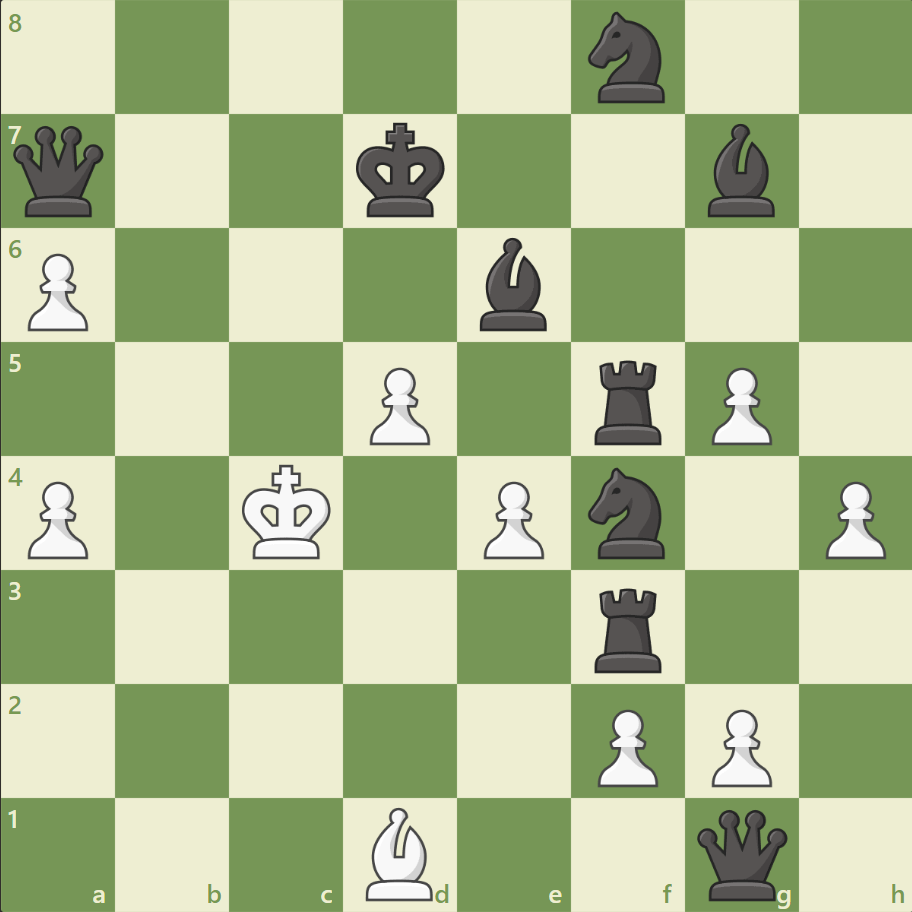B: (358, 801, 442, 904)
K: (238, 458, 338, 566)
P: (20, 246, 95, 337), (701, 359, 776, 450), (20, 473, 95, 564), (474, 473, 549, 564), (701, 700, 776, 791), (361, 359, 435, 450), (815, 473, 889, 564), (588, 700, 662, 791)
b: (471, 233, 555, 336), (698, 120, 782, 222)
k: (351, 117, 451, 225)
n: (579, 7, 676, 110), (579, 461, 676, 564)
q: (10, 122, 109, 222), (691, 804, 790, 903)
r: (587, 352, 670, 449), (587, 579, 670, 676)
